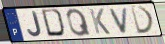D: (40, 8, 68, 39), (129, 5, 156, 36)
J: (26, 10, 43, 38)
K: (88, 8, 112, 35)
Q: (66, 8, 93, 38)
V: (109, 7, 130, 35)
